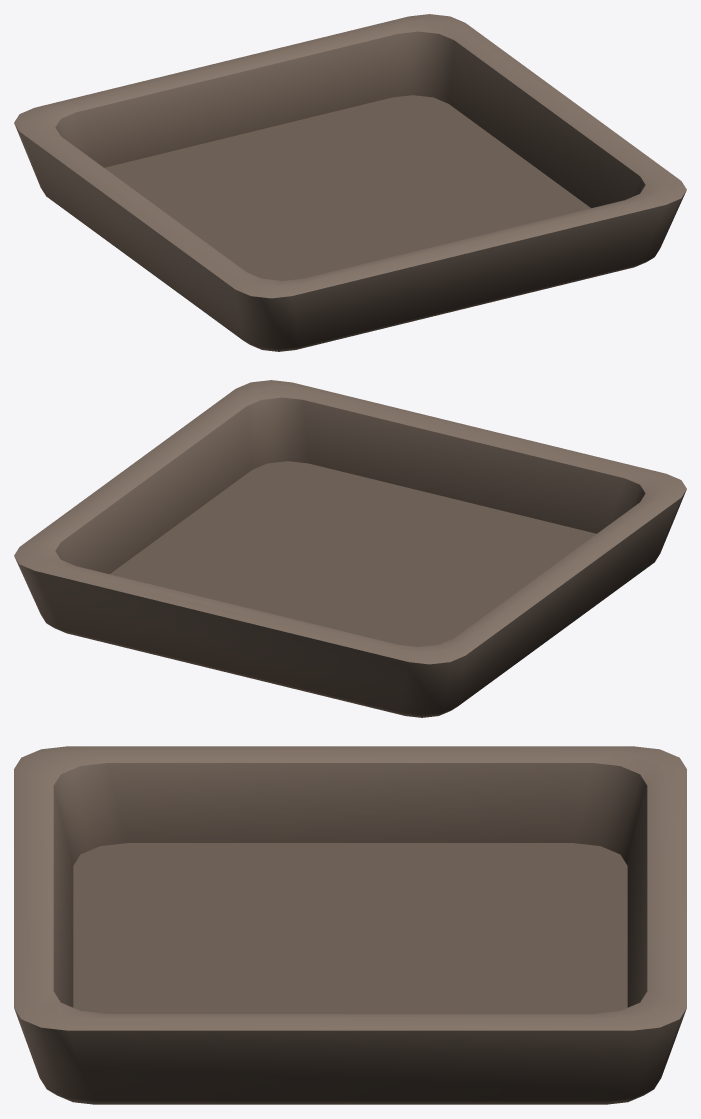
The model's file is container_B.obj.
The picture shows the model from 3 angles, top to bottom: view 1: azimuth 30°, elevation 25°; view 2: azimuth 150°, elevation 25°; view 3: azimuth 270°, elevation 25°; orthographic projection. The views are drawn at different scales.
Visible parts, largest first — view 1: container_B; view 2: container_B; view 3: container_B.
Part boxes in pixels (x1=…): container_B: x1=14, y1=14, x2=686, y2=351; container_B: x1=14, y1=380, x2=686, y2=717; container_B: x1=14, y1=746, x2=686, y2=1104.
Size of the model in its own units: 3.4 by 0.52 by 3.4.
1 material, 1 textured.
